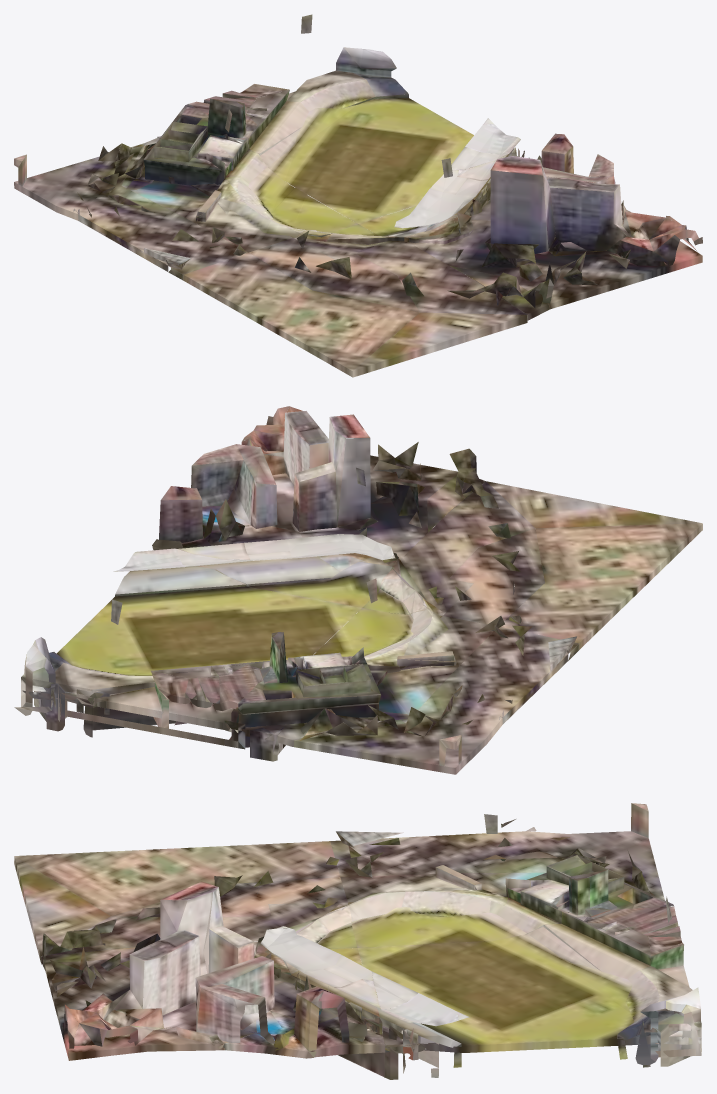
3 views of the same model, one above another, from view 1: azimuth 30°, elevation 25°; view 2: azimuth 150°, elevation 25°; view 3: azimuth 270°, elevation 25° (orthographic). The views are drawn at different scales.
Parts seen in each view (by area): view 1: Mesh_0; view 2: Mesh_0; view 3: Mesh_0.
Part boxes in pixels (bbox=[...]): Mesh_0: bbox=[14, 14, 702, 377]; Mesh_0: bbox=[14, 406, 702, 774]; Mesh_0: bbox=[14, 803, 701, 1079].
Bounding box in the file's own units: 266 × 75.42 × 330.
Materials: 2 (2 with a texture image).
